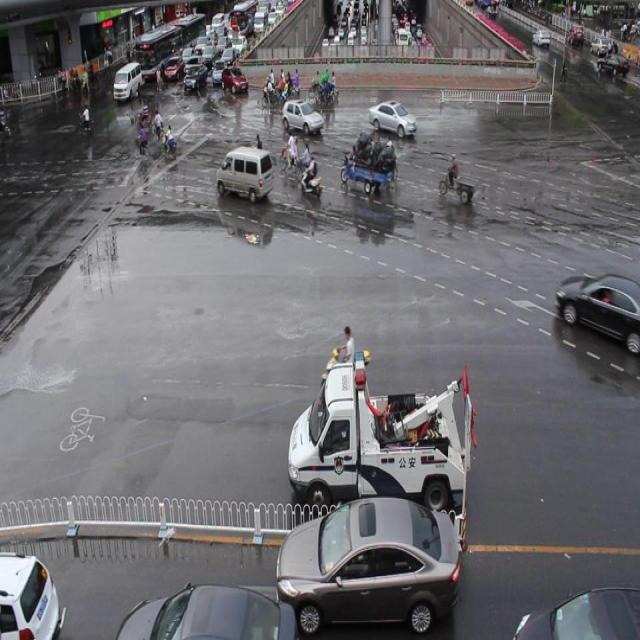bus: (287, 352, 473, 518)
car: (277, 495, 459, 631), (116, 580, 298, 640), (512, 585, 640, 640), (557, 272, 640, 349), (0, 546, 60, 640), (368, 100, 416, 139), (282, 98, 323, 134)
truck: (215, 147, 273, 203)
